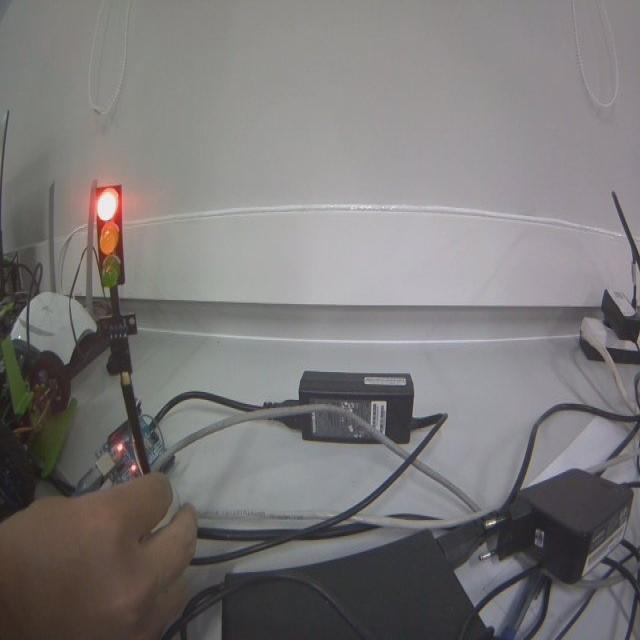Lampu Merah: (92, 182, 126, 290)
